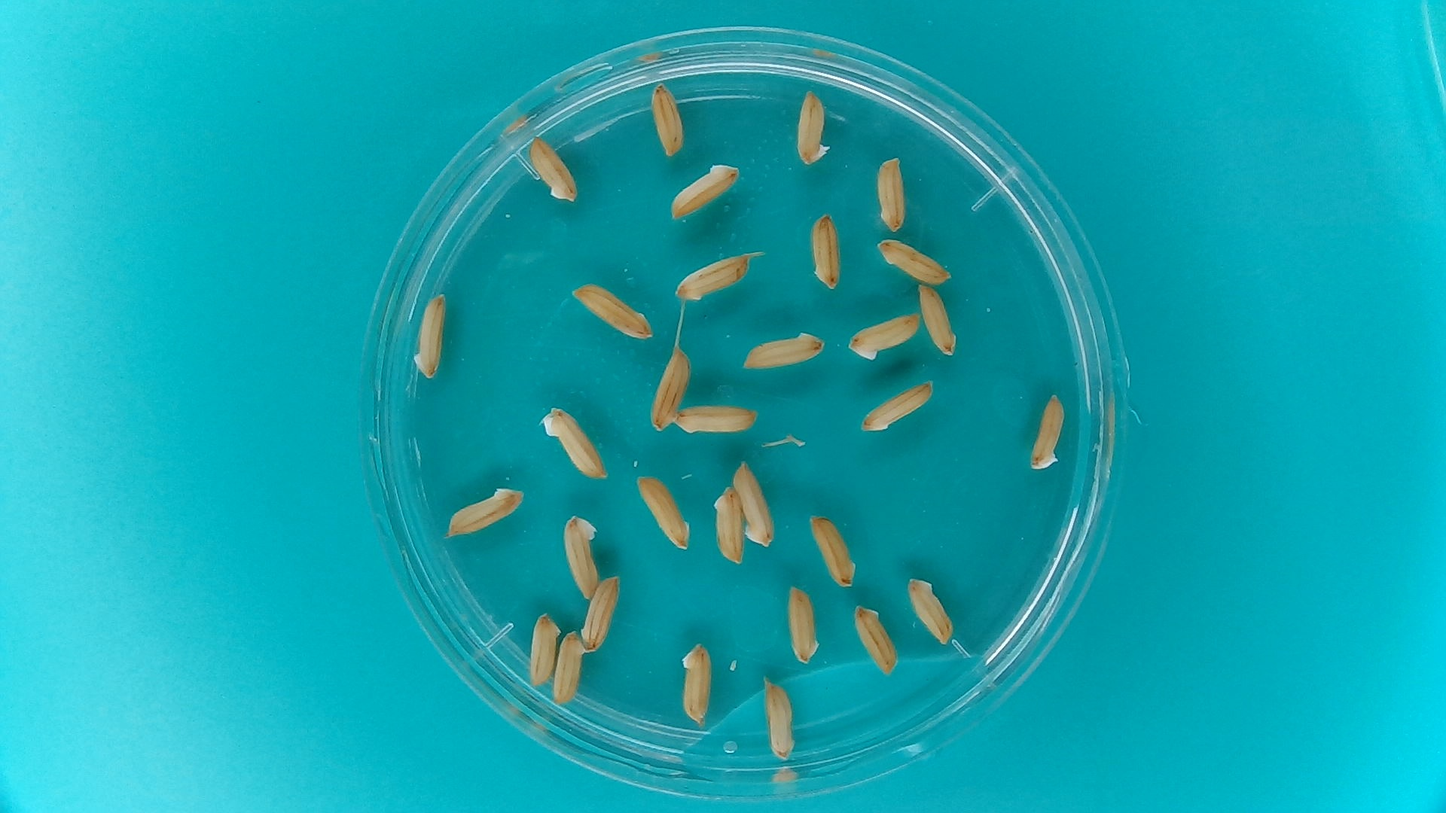no: (660, 160, 755, 221), (539, 402, 610, 482), (568, 279, 657, 340), (633, 472, 694, 554), (847, 597, 903, 684), (552, 514, 600, 615), (856, 377, 938, 435), (901, 573, 960, 651), (673, 249, 755, 303), (524, 129, 581, 206), (871, 234, 955, 286), (804, 510, 859, 589), (776, 582, 826, 668), (731, 457, 777, 550), (758, 674, 805, 765), (844, 309, 925, 361), (738, 327, 828, 373), (445, 489, 525, 540), (674, 638, 717, 732), (578, 571, 624, 657), (647, 346, 691, 434), (868, 151, 914, 235), (410, 288, 448, 383), (791, 84, 834, 166), (645, 78, 688, 159), (916, 282, 960, 359), (673, 400, 761, 438), (548, 626, 587, 710), (807, 209, 845, 292), (709, 483, 746, 568), (1028, 390, 1066, 472), (524, 609, 562, 689)
